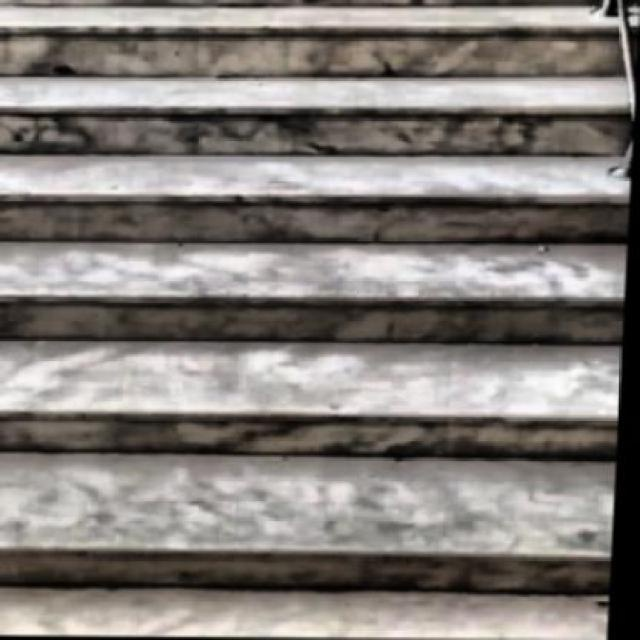stair: (2, 0, 640, 624)
